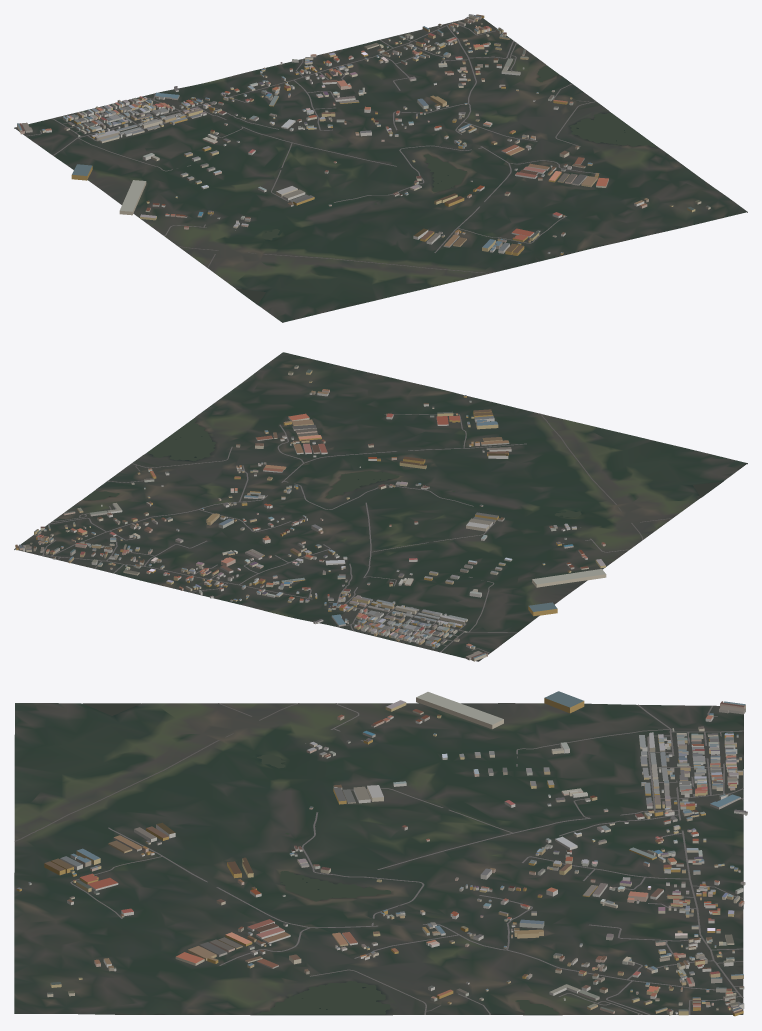
3 views of the same model, one above another, from view 1: azimuth 30°, elevation 25°; view 2: azimuth 150°, elevation 25°; view 3: azimuth 270°, elevation 25° (orthographic). The views are drawn at different scales.
Visible parts, largest first — view 1: ground, buildings, roads, water; view 2: ground, buildings, roads, water; view 3: ground, buildings, roads, water.
Boxes of the visible parts, box(x1,y1,x2,y2) form: ground: box(14, 18, 747, 322); buildings: box(17, 14, 710, 255); roads: box(26, 21, 599, 273); water: box(237, 65, 657, 304); ground: box(14, 352, 747, 661); buildings: box(15, 365, 606, 661); roads: box(34, 413, 672, 653); water: box(83, 418, 721, 517); ground: box(14, 703, 743, 1015); buildings: box(16, 691, 747, 1016); roads: box(14, 703, 743, 1014); water: box(83, 703, 558, 1014).
Bounding box in the file's own units: 1438 × 24 × 1411.
